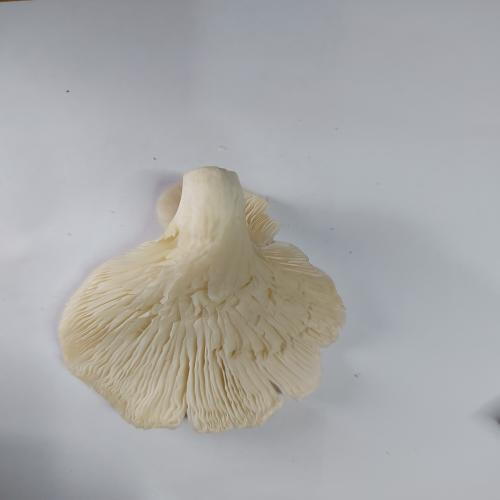Oyster Mushroom: (57, 165, 346, 433)
